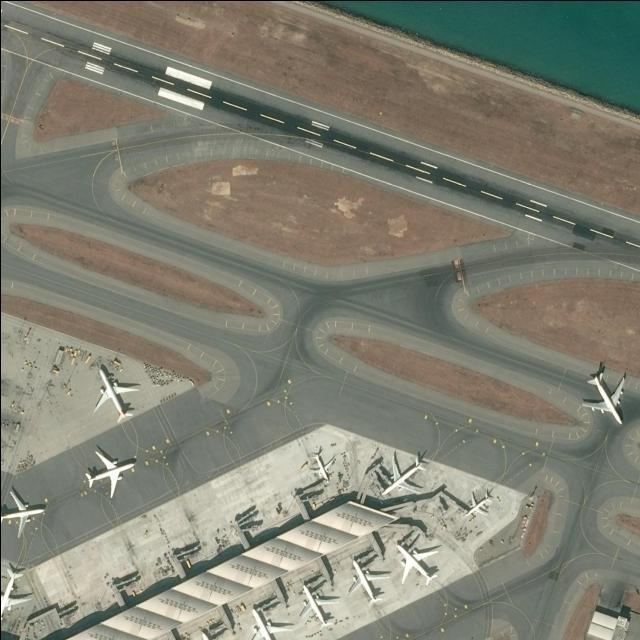Aircraft: (576, 365, 633, 425), (81, 444, 139, 498), (92, 362, 142, 422), (394, 535, 445, 586), (0, 484, 50, 535), (379, 449, 430, 498), (295, 579, 342, 630), (346, 554, 390, 606), (0, 560, 34, 626), (246, 601, 291, 640), (463, 488, 497, 520), (309, 446, 335, 480)
